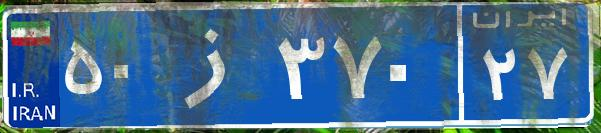0: (385, 28, 445, 110), (110, 28, 158, 105)
2: (475, 38, 525, 113)
3: (273, 28, 330, 110)
5: (57, 26, 110, 107)
7: (330, 28, 385, 110), (525, 38, 570, 115)
ز: (158, 15, 273, 115)
